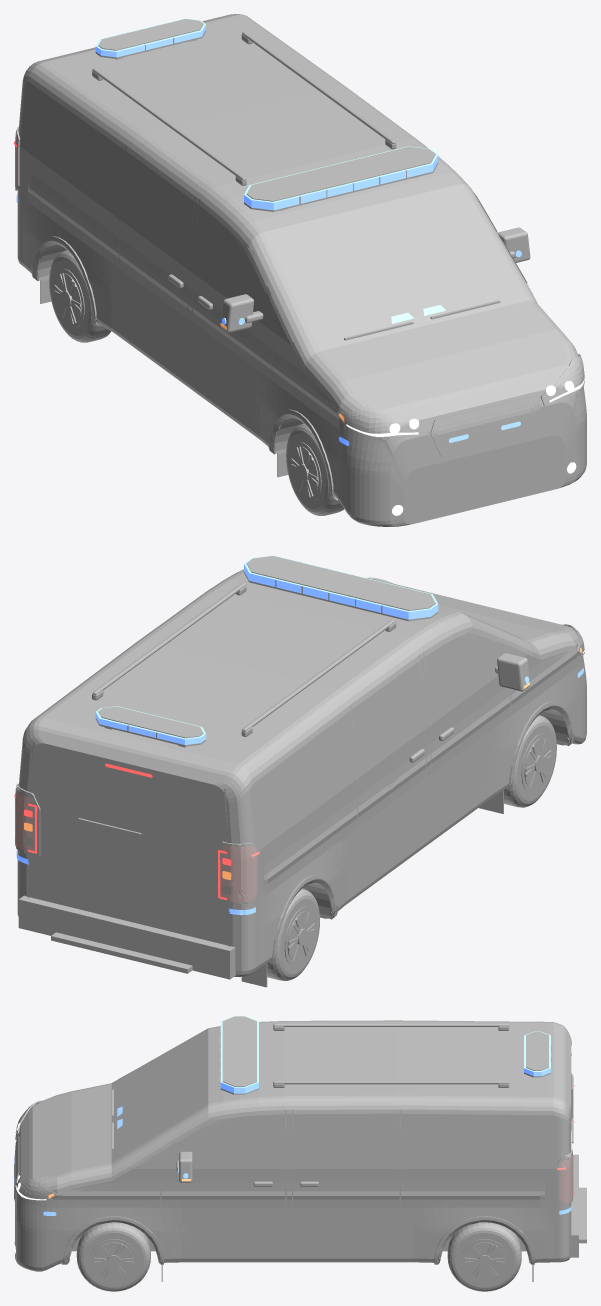
File: NEFVan.fbx
The picture shows the model from 3 angles, top to bottom: view 1: azimuth 30°, elevation 25°; view 2: azimuth 150°, elevation 25°; view 3: azimuth 270°, elevation 25°; orthographic projection. The views are drawn at different scales.
Visible parts, largest first — view 1: NEFVan; view 2: NEFVan; view 3: NEFVan.
Part boxes in pixels (x1=…): NEFVan: x1=14, y1=14, x2=586, y2=526; NEFVan: x1=14, y1=555, x2=586, y2=987; NEFVan: x1=14, y1=1016, x2=586, y2=1291.
Size of the model in its own units: 245 by 195 by 510.
